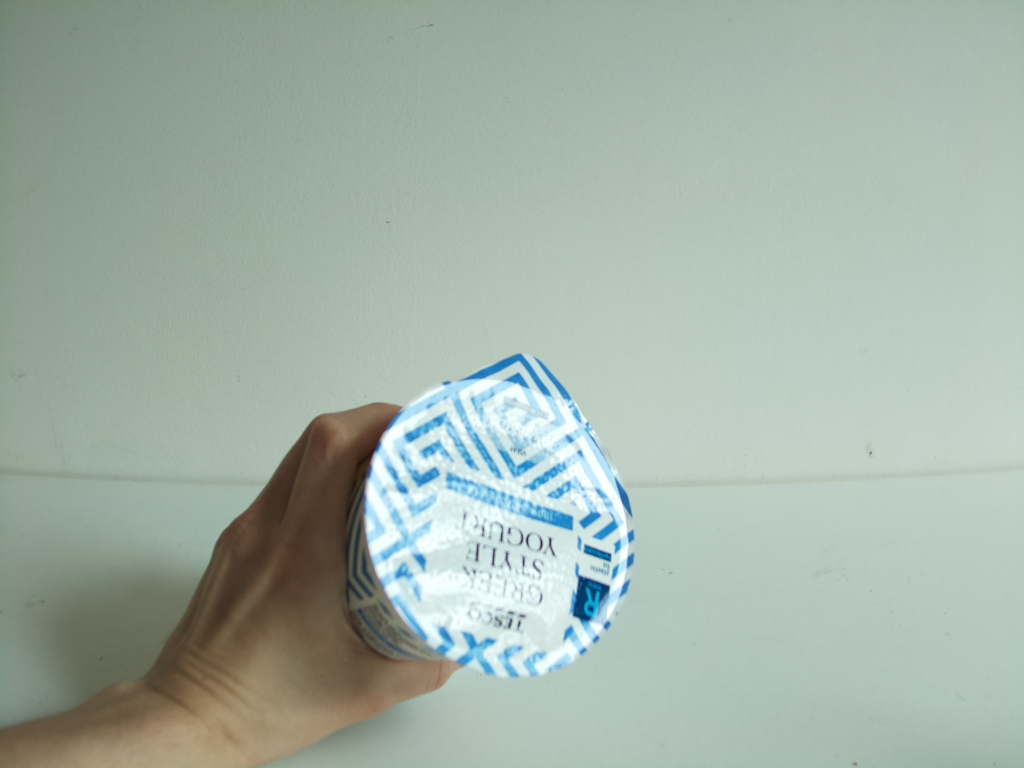yogurt: (352, 345, 638, 675)
